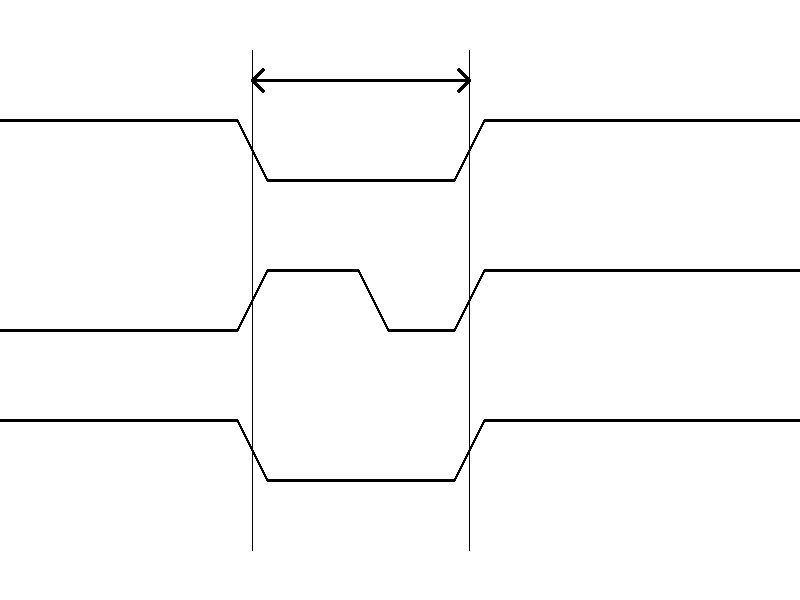double_arrow: (252, 65, 469, 95)
